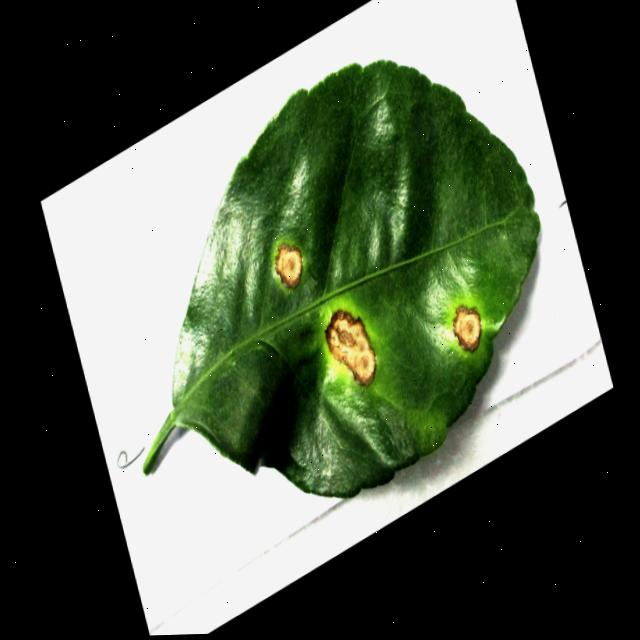antracnose: (142, 60, 538, 496), (325, 309, 374, 384), (452, 305, 480, 351), (274, 243, 301, 287), (542, 428, 548, 438)
